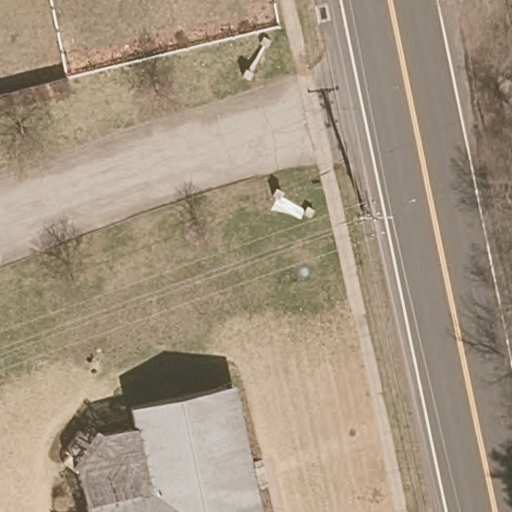DT: (353, 190, 393, 239)
